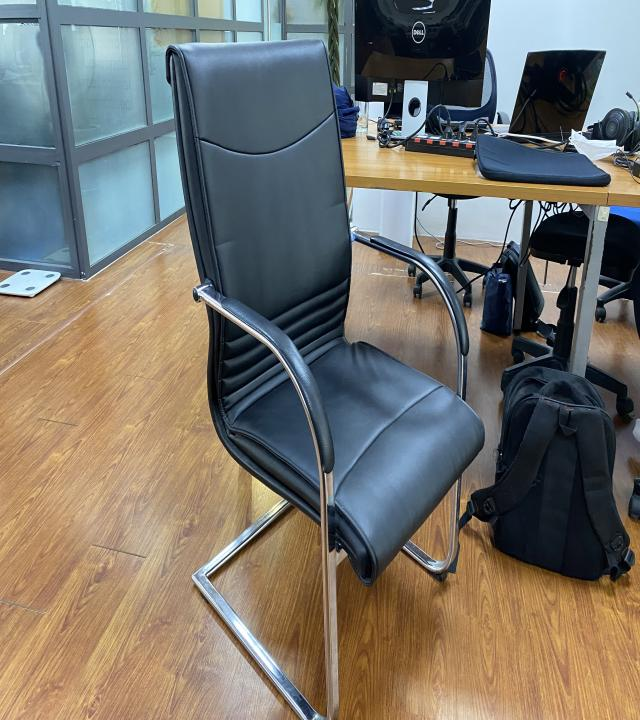SS_03: (163, 35, 486, 720)
